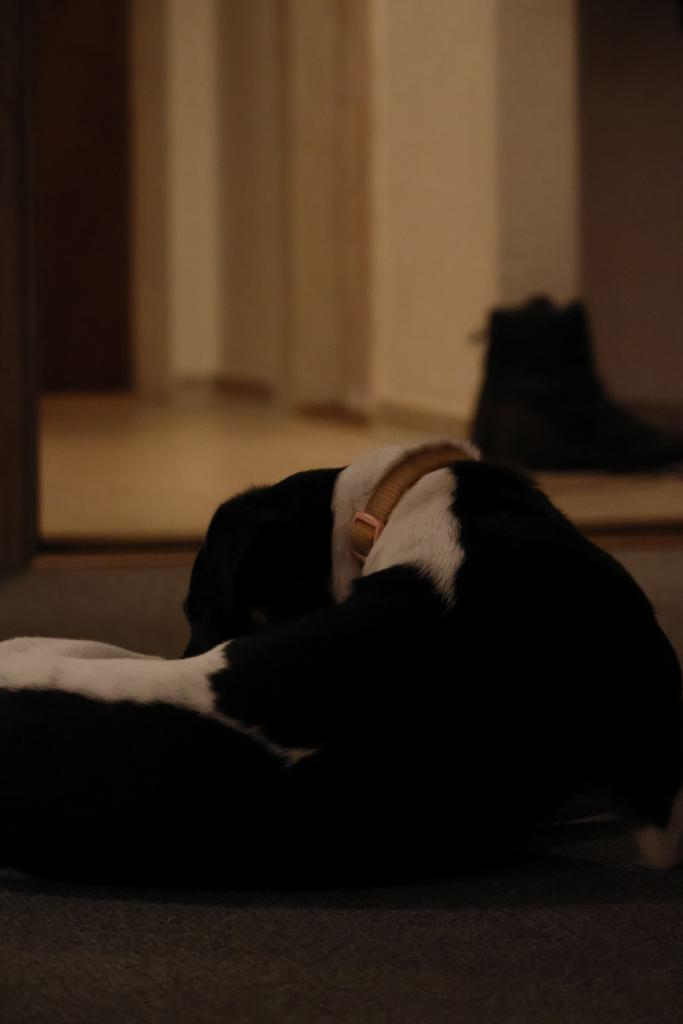Dog: (0, 424, 683, 935)
